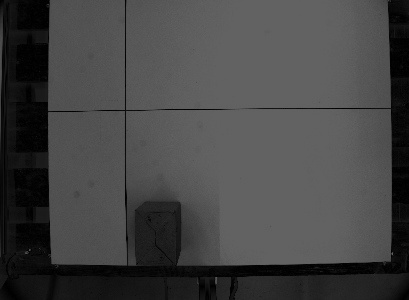b5: (131, 197, 183, 269)
